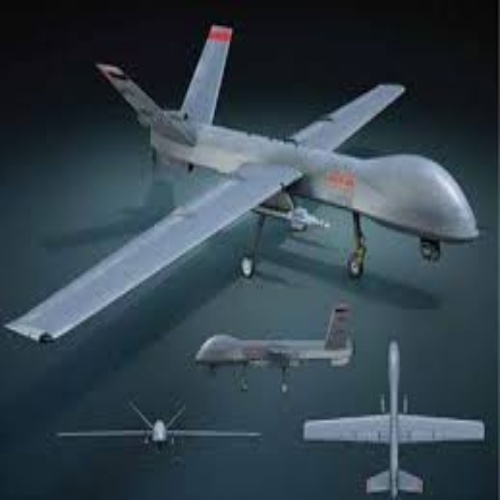uav358: (5, 25, 477, 282), (303, 338, 485, 494), (192, 302, 357, 392), (56, 403, 263, 454)
